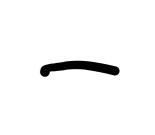minus: (40, 59, 120, 78)
